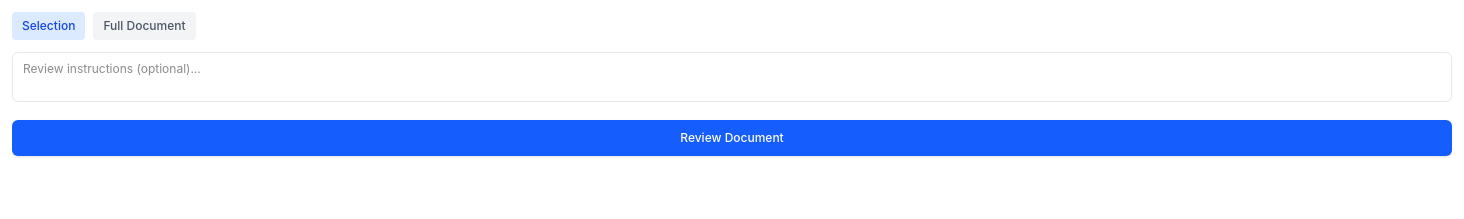
Scenario: ReviewPanel — error handling › displays review errors
What coordinates should you click on to do the following:
click the button "Review Document"
I would click on:
 (732, 138)
Its box is [12,120,1452,156].
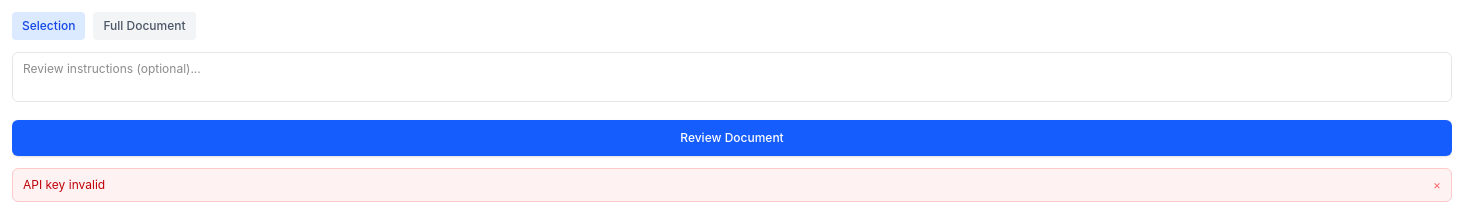
Now the text "API key invalid" is shown, box [23,176,105,192]
